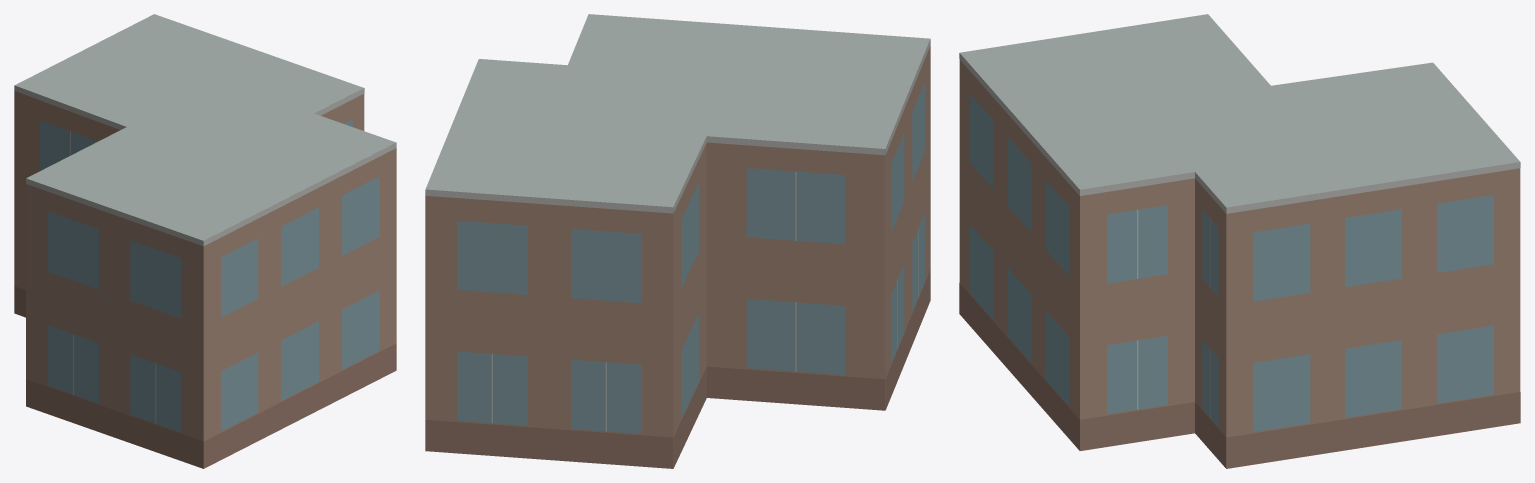
Rendered from survey-upis-32964438.glb.
3 renders of one model, left to right at view 1: azimuth 30°, elevation 25°; view 2: azimuth 150°, elevation 25°; view 3: azimuth 270°, elevation 25°, orthographic. The views are drawn at different scales.
Visible parts, largest first — view 1: survey-upis-32964438.tmp; view 2: survey-upis-32964438.tmp; view 3: survey-upis-32964438.tmp.
Boxes of the visible parts, x1,y1,x2,y2 form: survey-upis-32964438.tmp: (14, 14, 396, 468); survey-upis-32964438.tmp: (425, 14, 930, 468); survey-upis-32964438.tmp: (959, 14, 1520, 468).
Bounding box in the file's own units: 16.23 × 10.2 × 19.86.
